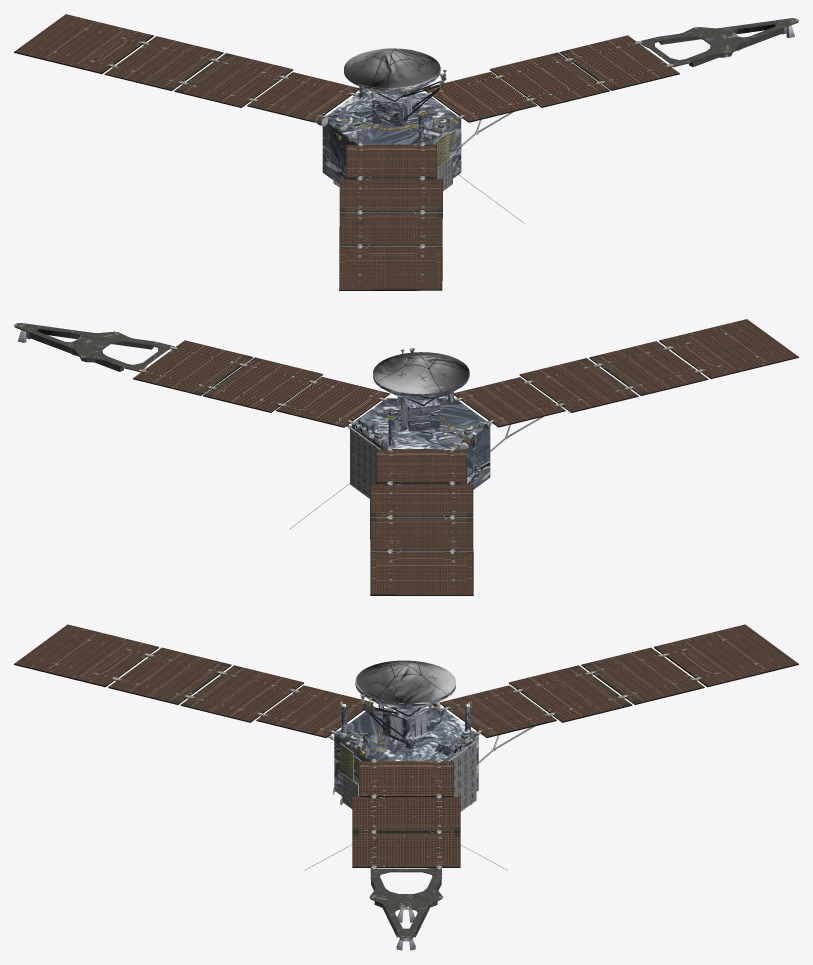
File: Juno.glb
The picture shows the model from 3 angles, top to bottom: view 1: azimuth 30°, elevation 25°; view 2: azimuth 150°, elevation 25°; view 3: azimuth 270°, elevation 25°; orthographic projection. The views are drawn at different scales.
Parts seen in each view (by area): view 1: shiny_panels_Geometry-Body.021, silver_foil_Geometry-Body.002, dish_top_Geometry-Mesh.002, solar_panels_Geometry-Body.006, tex_01_Geometry-Body.003, black_krinkle_Geometry-Body.007, dish_bottom_Geometry-Mesh; view 2: shiny_panels_Geometry-Body.021, silver_foil_Geometry-Body.002, dish_top_Geometry-Mesh.002, tex_01_Geometry-Body.003, solar_panels_Geometry-Body.006, black_krinkle_Geometry-Body.007; view 3: shiny_panels_Geometry-Body.021, silver_foil_Geometry-Body.002, tex_01_Geometry-Body.003, dish_top_Geometry-Mesh.002, solar_panels_Geometry-Body.006, black_krinkle_Geometry-Body.007.
Part boxes in pixels (<box>): shiny_panels_Geometry-Body.021: <box>14,14,679,289</box>; silver_foil_Geometry-Body.002: <box>322,87,461,186</box>; dish_top_Geometry-Mesh.002: <box>344,48,440,88</box>; solar_panels_Geometry-Body.006: <box>417,18,798,290</box>; tex_01_Geometry-Body.003: <box>110,25,794,247</box>; black_krinkle_Geometry-Body.007: <box>14,35,679,290</box>; dish_bottom_Geometry-Mesh: <box>344,69,440,94</box>; shiny_panels_Geometry-Body.021: <box>133,319,798,594</box>; silver_foil_Geometry-Body.002: <box>351,391,490,489</box>; dish_top_Geometry-Mesh.002: <box>373,352,469,393</box>; tex_01_Geometry-Body.003: <box>17,330,702,552</box>; solar_panels_Geometry-Body.006: <box>14,323,174,371</box>; black_krinkle_Geometry-Body.007: <box>133,340,798,595</box>; shiny_panels_Geometry-Body.021: <box>14,624,798,866</box>; silver_foil_Geometry-Body.002: <box>334,704,478,800</box>; tex_01_Geometry-Body.003: <box>112,653,699,950</box>; dish_top_Geometry-Mesh.002: <box>355,660,455,703</box>; solar_panels_Geometry-Body.006: <box>369,868,442,941</box>; black_krinkle_Geometry-Body.007: <box>14,647,798,867</box>.
Bounding box in the file's own units: 17.65 × 4.26 × 18.54.
Materials: 9 (9 with a texture image).
